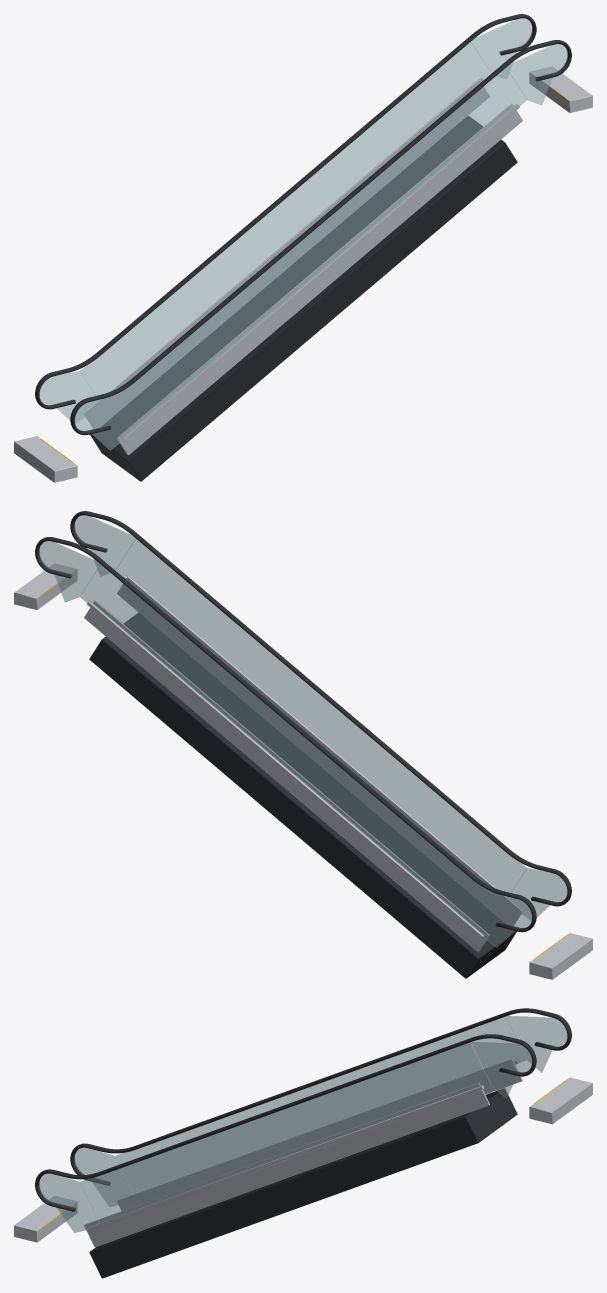
Rendered from SM_MallEscalatorShell_450.fbx.
3 renders of one model, top to bottom at view 1: azimuth 30°, elevation 25°; view 2: azimuth 150°, elevation 25°; view 3: azimuth 330°, elevation 25°, orthographic.
Visible parts, largest first — view 1: SM_MallEscalatorShell_450; view 2: SM_MallEscalatorShell_450; view 3: SM_MallEscalatorShell_450.
Part boxes in pixels (bbox=[...]): SM_MallEscalatorShell_450: bbox=[14, 14, 592, 482]; SM_MallEscalatorShell_450: bbox=[14, 511, 592, 979]; SM_MallEscalatorShell_450: bbox=[14, 1008, 592, 1278].
Size of the model in its own units: 1039 by 136 by 624.
